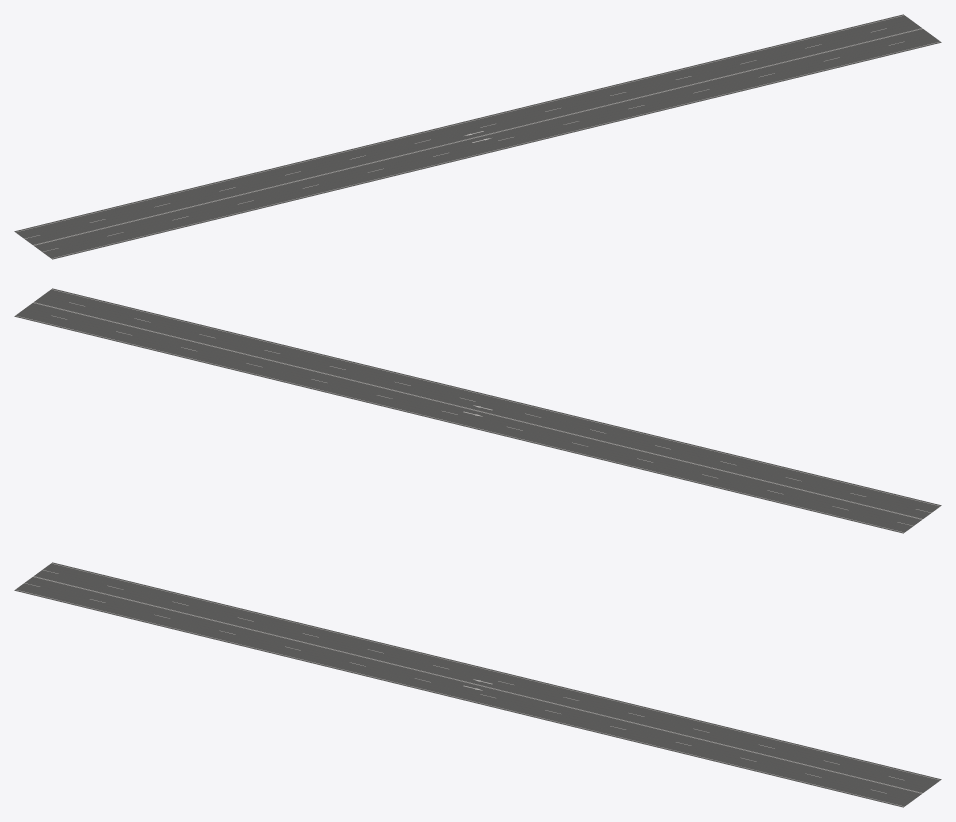
The picture shows the model from 3 angles, top to bottom: view 1: azimuth 30°, elevation 25°; view 2: azimuth 150°, elevation 25°; view 3: azimuth 330°, elevation 25°; orthographic projection.
Parts seen in each view (by area): view 1: Roads_Road_Layer0_3Node, Roads_Road_Layer0Node, Roads_Road_Layer0_1Node, Roads_Road_Layer0_2Node, Roads_Marking_Layer0_1Node, Roads_Marking_Layer0_2Node, Roads_Marking_Layer0_3Node, Roads_Marking_Layer0Node; view 2: Roads_Road_Layer0_3Node, Roads_Road_Layer0_1Node, Roads_Road_Layer0Node, Roads_Road_Layer0_2Node, Roads_Marking_Layer0_3Node, Roads_Marking_Layer0Node, Roads_Marking_Layer0_1Node, Roads_Marking_Layer0_2Node; view 3: Roads_Road_Layer0_3Node, Roads_Road_Layer0_1Node, Roads_Road_Layer0Node, Roads_Road_Layer0_2Node, Roads_Marking_Layer0_3Node, Roads_Marking_Layer0Node, Roads_Marking_Layer0_1Node, Roads_Marking_Layer0_2Node.
Boxes of the visible parts, left/top/right/bottom form: Roads_Road_Layer0_3Node: left=459, top=14, right=922, bottom=136; Roads_Road_Layer0Node: left=33, top=137, right=496, bottom=259; Roads_Road_Layer0_1Node: left=479, top=28, right=941, bottom=150; Roads_Road_Layer0_2Node: left=14, top=123, right=476, bottom=245; Roads_Marking_Layer0_1Node: left=478, top=28, right=940, bottom=150; Roads_Marking_Layer0_2Node: left=15, top=123, right=477, bottom=245; Roads_Marking_Layer0_3Node: left=460, top=15, right=921, bottom=136; Roads_Marking_Layer0Node: left=34, top=137, right=495, bottom=258; Roads_Road_Layer0_3Node: left=14, top=302, right=476, bottom=424; Roads_Road_Layer0_1Node: left=33, top=288, right=496, bottom=410; Roads_Road_Layer0Node: left=479, top=397, right=941, bottom=519; Roads_Road_Layer0_2Node: left=459, top=411, right=922, bottom=533; Roads_Marking_Layer0_3Node: left=15, top=302, right=477, bottom=424; Roads_Marking_Layer0Node: left=478, top=397, right=940, bottom=519; Roads_Marking_Layer0_1Node: left=34, top=289, right=495, bottom=410; Roads_Marking_Layer0_2Node: left=460, top=411, right=921, bottom=532; Roads_Road_Layer0_3Node: left=479, top=671, right=941, bottom=793; Roads_Road_Layer0_1Node: left=459, top=685, right=922, bottom=807; Roads_Road_Layer0Node: left=14, top=576, right=476, bottom=698; Roads_Road_Layer0_2Node: left=33, top=562, right=496, bottom=684; Roads_Marking_Layer0_3Node: left=478, top=671, right=940, bottom=793; Roads_Marking_Layer0Node: left=15, top=576, right=477, bottom=698; Roads_Marking_Layer0_1Node: left=460, top=685, right=921, bottom=806; Roads_Marking_Layer0_2Node: left=34, top=563, right=495, bottom=684.
Bounding box in the file's own units: 200 × 15 × 0.
3 materials, 3 textured.
